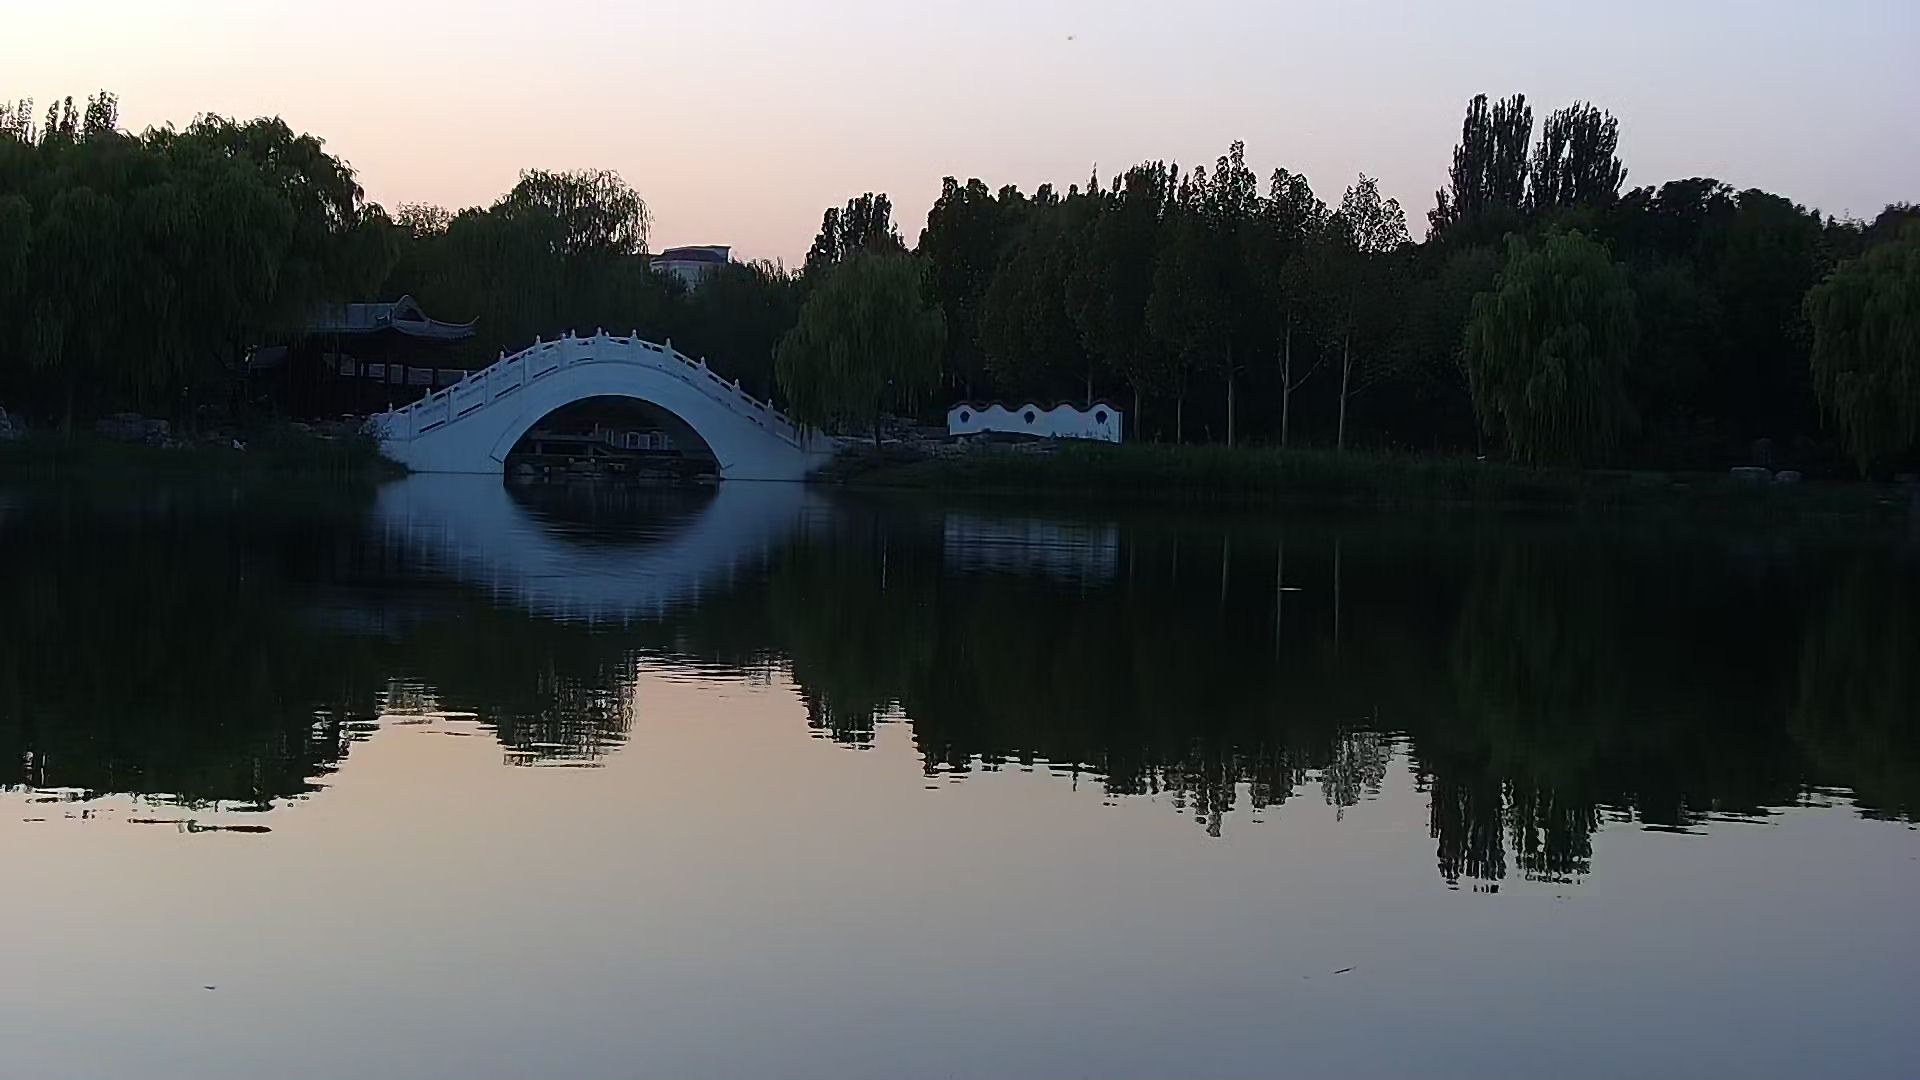bridge: (360, 330, 853, 489)
